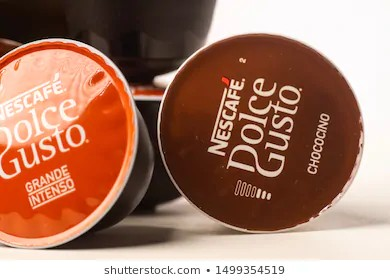nescafe-dolce: (157, 29, 368, 232), (1, 20, 143, 246)
